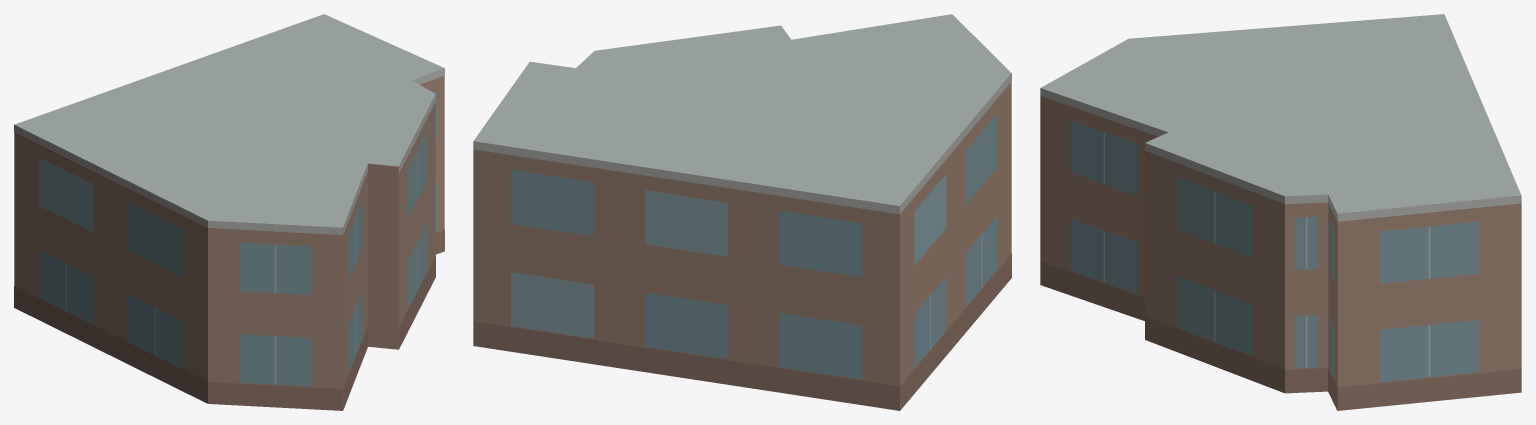
File: survey-upis-32816809.glb
The picture shows the model from 3 angles, left to right: view 1: azimuth 30°, elevation 25°; view 2: azimuth 150°, elevation 25°; view 3: azimuth 270°, elevation 25°; orthographic projection. The views are drawn at different scales.
Visible parts, largest first — view 1: survey-upis-32816809.tmp; view 2: survey-upis-32816809.tmp; view 3: survey-upis-32816809.tmp.
Part boxes in pixels (x1,y1,x2,y2): survey-upis-32816809.tmp: [14, 14, 444, 410]; survey-upis-32816809.tmp: [473, 14, 1011, 410]; survey-upis-32816809.tmp: [1040, 14, 1521, 410].
Bounding box in the file's own units: 13.29 × 6.1 × 13.52.
